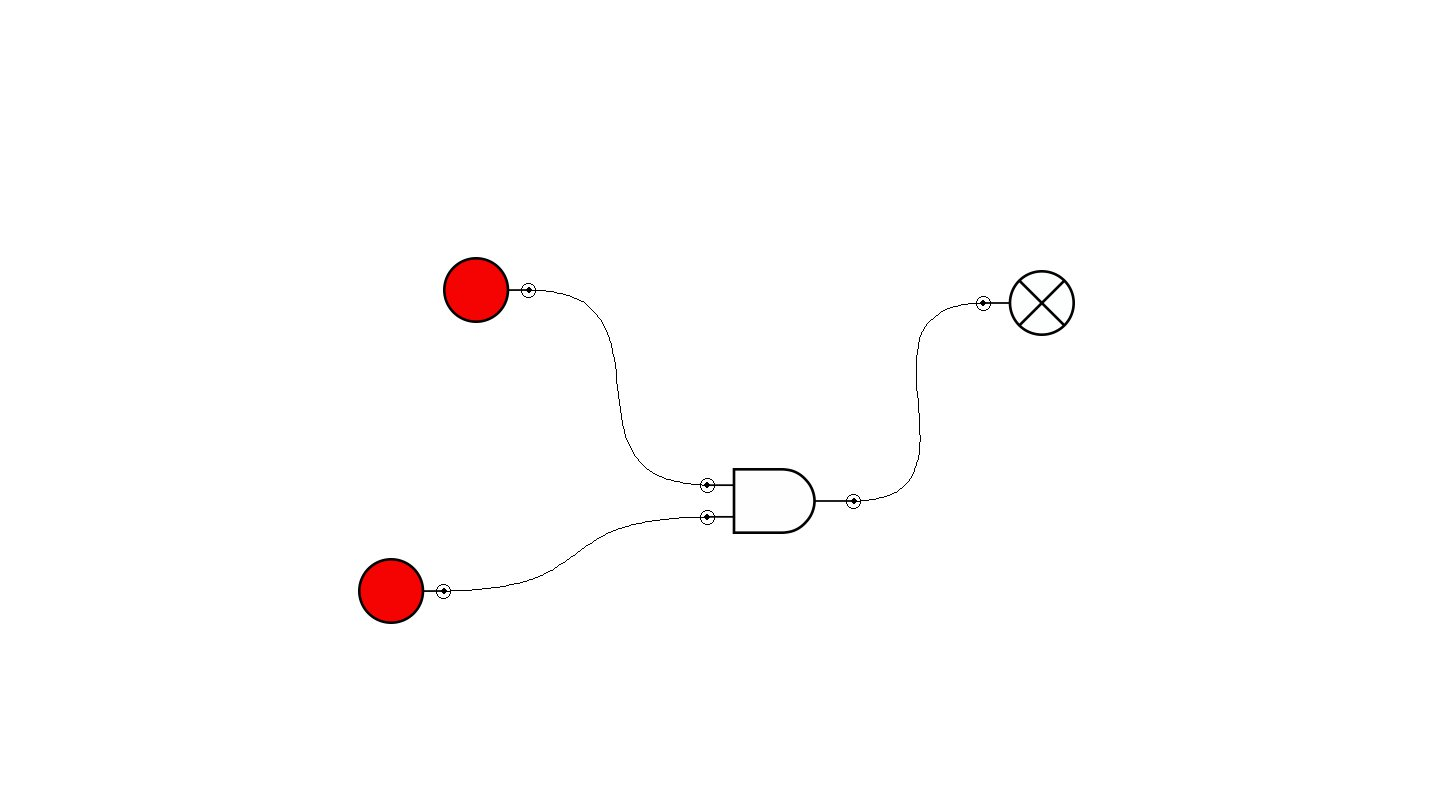and: (700, 468, 861, 534)
bulb: (976, 270, 1075, 336)
switch_False: (443, 257, 536, 323), (358, 558, 451, 624)
